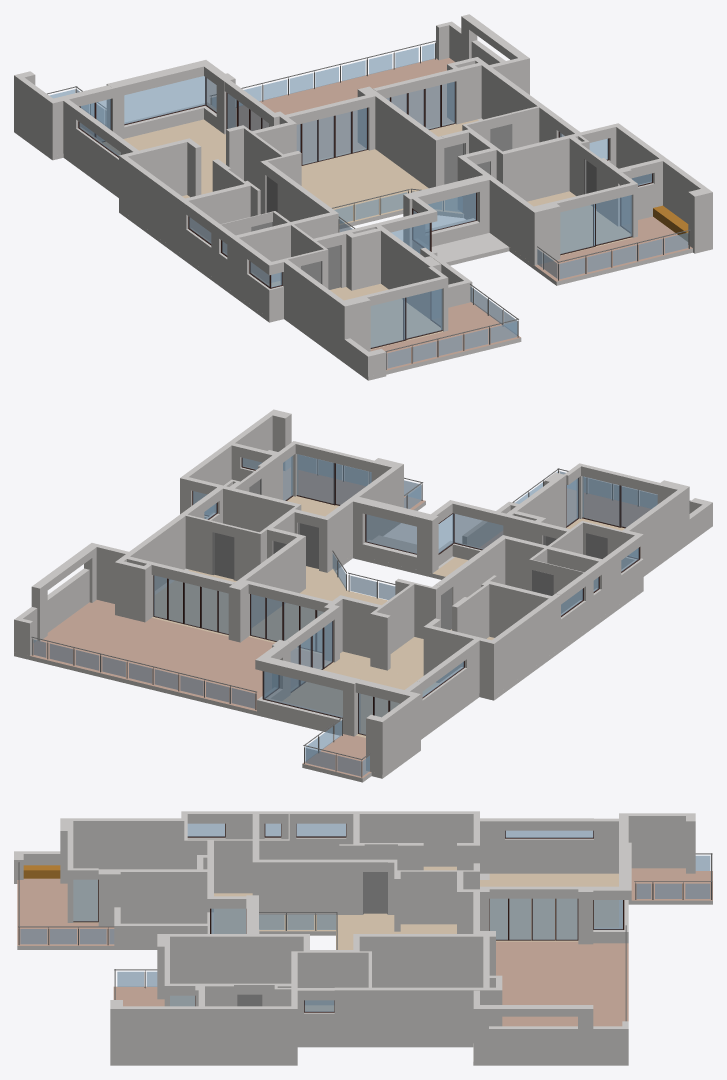
The model's file is FirstFloor.glb.
3 views of the same model, one above another, from view 1: azimuth 30°, elevation 25°; view 2: azimuth 150°, elevation 25°; view 3: azimuth 270°, elevation 25° (orthographic).
Parts seen in each view (by area): view 1: Box059, Box050, Box046, Box054, Box043, Box055, Box041, Box051, Box048, Box045, Box047, Box040 (+23 smaller); view 2: Box059, Box050, Box046, Box047, Box055, Box054, Box052, Box048, Box045, Box051, Box041, Box043 (+23 smaller); view 3: Box059, Box050, Box046, Box051, Box055, Box052, Box041, Box043, Box045, Box048, Box047, Box054 (+29 smaller).
Boxes of the visible parts, x1,y1,x2,y2 form: Box059: (14,58,712,380); Box050: (76,108,260,257); Box046: (227,163,343,318); Box054: (441,113,599,201); Box043: (340,197,469,318); Box055: (373,57,561,148); Box041: (272,255,386,376); Box051: (581,123,712,249); Box048: (285,86,444,188); Box045: (457,154,560,265); Box047: (224,80,301,214); Box040: (14,71,112,162); Box059: (14,467,712,782); Box050: (417,575,560,734); Box046: (435,521,643,617); Box047: (285,578,440,670); Box055: (115,501,234,622); Box054: (199,468,321,580); Box052: (14,543,128,655); Box048: (228,534,331,642); Box045: (319,458,403,572); Box051: (180,409,291,518); Box041: (607,480,712,572); Box043: (431,472,566,566); Box059: (14,866,712,1065); Box050: (339,811,593,873); Box046: (181,811,387,914); Box051: (110,990,297,1061); Box055: (334,936,502,1043); Box052: (473,990,628,1061); Box041: (14,814,187,883); Box043: (98,853,246,933); Box045: (157,929,309,999); Box048: (353,892,495,987); Box047: (388,859,578,933); Box054: (237,938,371,1043).
Size of the model in its own units: 20.2 by 2.71 by 30.19.
